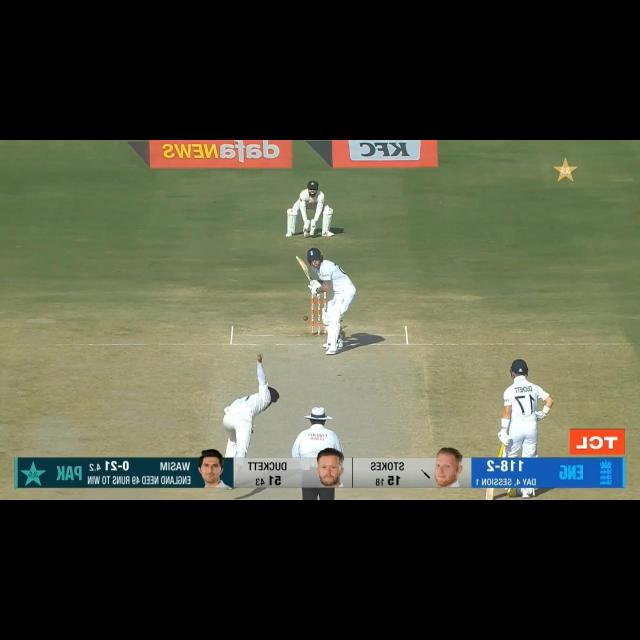bat: (293, 253, 312, 280), (484, 488, 495, 500)
toe: (292, 254, 304, 263), (484, 494, 496, 500)
